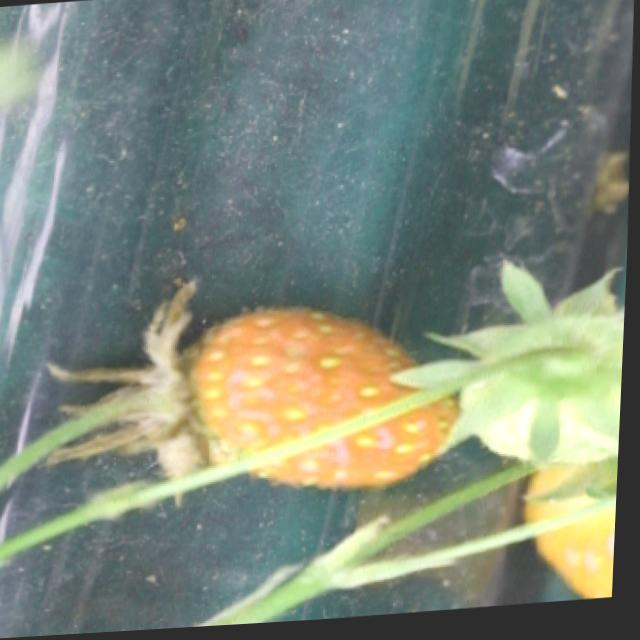Gray Mold: (49, 274, 231, 511)
